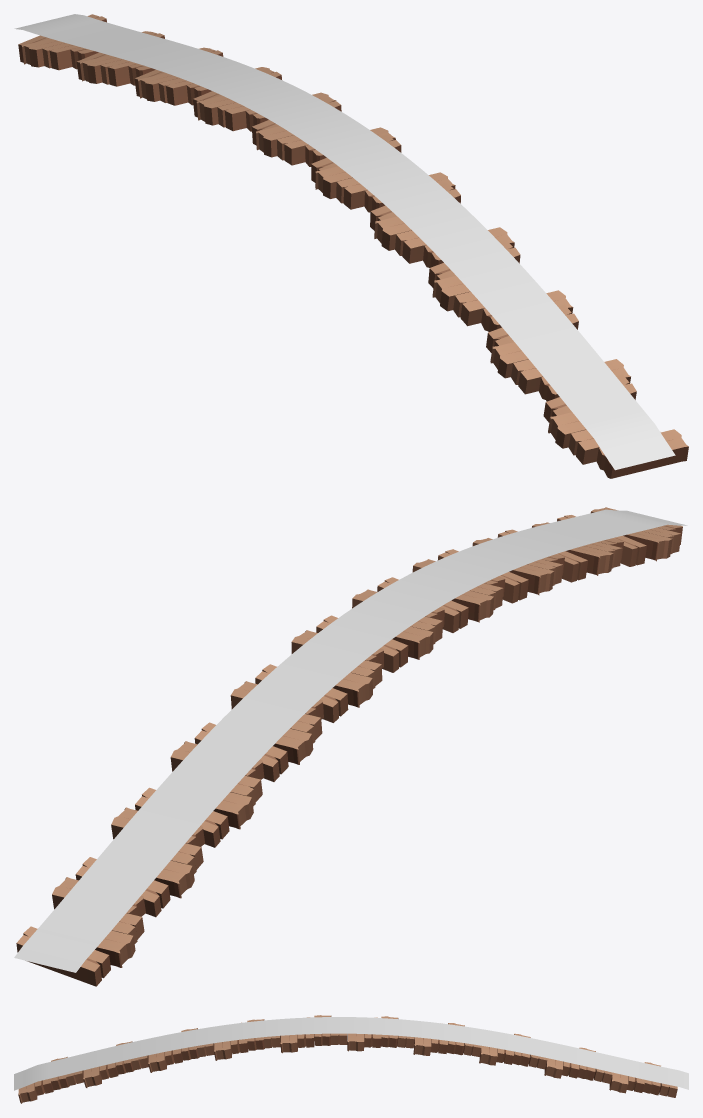
File: Prop_Bridge_1_model.fbx
3 renders of one model, top to bottom at view 1: azimuth 30°, elevation 25°; view 2: azimuth 150°, elevation 25°; view 3: azimuth 270°, elevation 25°, orthographic. The views are drawn at different scales.
Visible parts, largest first — view 1: Prop_Bridge_1_Nav, Prop_Bridge_1_model; view 2: Prop_Bridge_1_Nav, Prop_Bridge_1_model; view 3: Prop_Bridge_1_Nav, Prop_Bridge_1_model.
Boxes of the visible parts, x1=… form: Prop_Bridge_1_Nav: x1=14, y1=14, x2=675, y2=470; Prop_Bridge_1_model: x1=18, y1=14, x2=688, y2=478; Prop_Bridge_1_Nav: x1=14, y1=509, x2=687, y2=972; Prop_Bridge_1_model: x1=16, y1=507, x2=682, y2=986; Prop_Bridge_1_Nav: x1=14, y1=1017, x2=688, y2=1090; Prop_Bridge_1_model: x1=18, y1=1015, x2=677, y2=1103.
Bounding box in the file's own units: 2.47 × 2.92 × 26.05.
